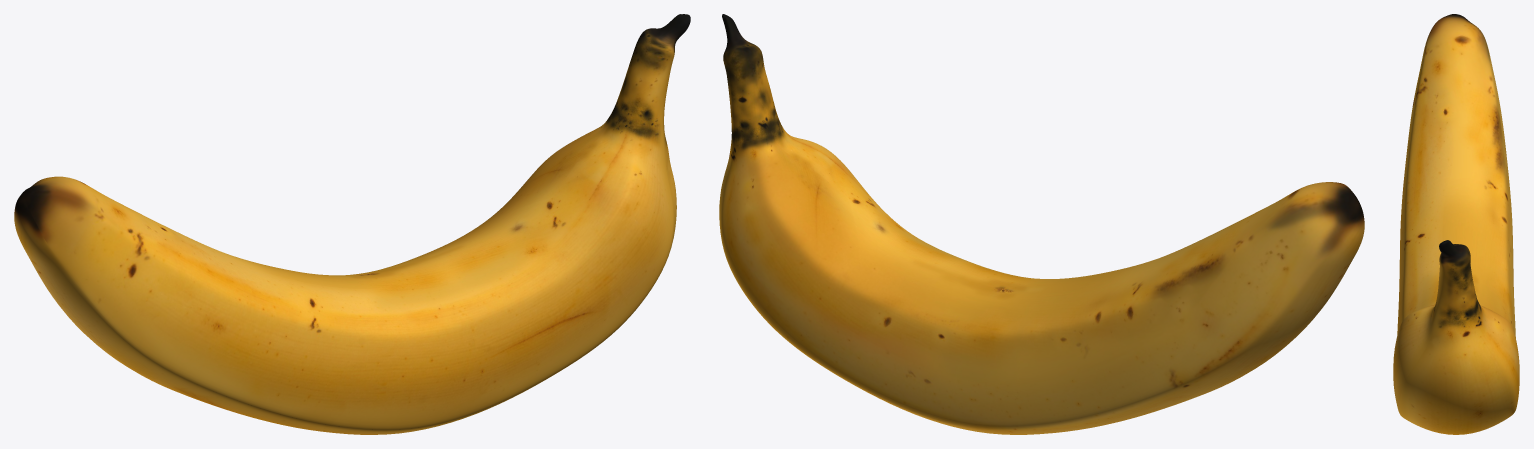
File: banana.glb
3 views of the same model, side by side, from view 1: azimuth 30°, elevation 25°; view 2: azimuth 150°, elevation 25°; view 3: azimuth 270°, elevation 25° (orthographic). The views are drawn at different scales.
Parts seen in each view (by area): view 1: Banana; view 2: Banana; view 3: Banana.
Part boxes in pixels (<box>): Banana: <box>14,14,690,434</box>; Banana: <box>719,14,1364,434</box>; Banana: <box>1393,14,1519,434</box>.
Size of the model in its own units: 0.2419 by 0.1207 by 0.0516.
Materials: 1 (1 with a texture image).
